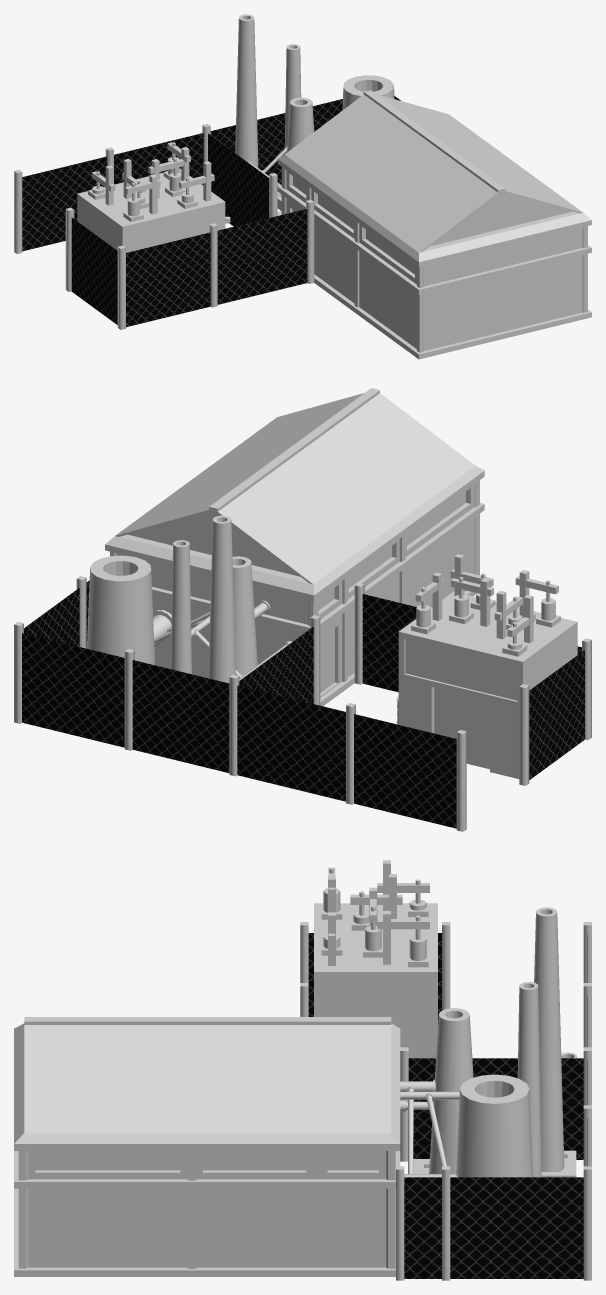
The model's file is Refinery.FBX.
The picture shows the model from 3 angles, top to bottom: view 1: azimuth 30°, elevation 25°; view 2: azimuth 150°, elevation 25°; view 3: azimuth 270°, elevation 25°; orthographic projection. The views are drawn at different scales.
Visible parts, largest first — view 1: Box002, Cylinder012, Cylinder011, Box003, Cylinder021, Cylinder018, Cylinder028, Cylinder030, Cylinder029, Cylinder031, Cylinder017, Cylinder001 (+3 smaller); view 2: Box002, Cylinder011, Box003, Cylinder029, Cylinder018, Cylinder028, Cylinder012, Cylinder021, Cylinder031, Cylinder030, Cylinder019, Cylinder001 (+9 smaller); view 3: Box002, Cylinder019, Box003, Cylinder029, Cylinder028, Cylinder030, Cylinder021, Cylinder031, Cylinder004, Cylinder020, Cylinder013, Cylinder018 (+6 smaller).
Part boxes in pixels (<box>): Box002: <box>277,90,591,359</box>; Cylinder012: <box>126,209,307,327</box>; Cylinder011: <box>22,99,342,251</box>; Box003: <box>77,169,225,252</box>; Cylinder021: <box>208,133,269,226</box>; Cylinder018: <box>71,217,117,324</box>; Cylinder028: <box>235,14,258,167</box>; Cylinder030: <box>287,97,314,152</box>; Cylinder029: <box>342,75,394,110</box>; Cylinder031: <box>284,44,301,153</box>; Cylinder017: <box>117,245,125,329</box>; Cylinder001: <box>14,169,22,253</box>; Box002: <box>105,388,484,706</box>; Cylinder011: <box>22,633,456,828</box>; Box003: <box>398,591,577,778</box>; Cylinder029: <box>87,555,154,665</box>; Cylinder018: <box>529,650,584,779</box>; Cylinder028: <box>208,515,235,683</box>; Cylinder012: <box>362,594,581,692</box>; Cylinder021: <box>239,627,313,703</box>; Cylinder031: <box>171,540,191,674</box>; Cylinder030: <box>232,556,257,675</box>; Cylinder019: <box>24,580,89,648</box>; Cylinder001: <box>456,730,466,831</box>; Box002: <box>14,1017,400,1276</box>; Cylinder019: <box>404,1177,583,1278</box>; Box003: <box>314,903,437,1058</box>; Cylinder029: <box>456,1074,532,1177</box>; Cylinder028: <box>534,907,564,1171</box>; Cylinder030: <box>429,1008,473,1173</box>; Cylinder021: <box>408,1058,583,1159</box>; Cylinder031: <box>517,982,541,1177</box>; Cylinder004: <box>583,1166,591,1280</box>; Cylinder020: <box>442,1166,450,1280</box>; Cylinder013: <box>396,1166,404,1280</box>; Cylinder018: <box>308,933,441,1023</box>.
Size of the model in its own units: 199 by 98.99 by 196.
